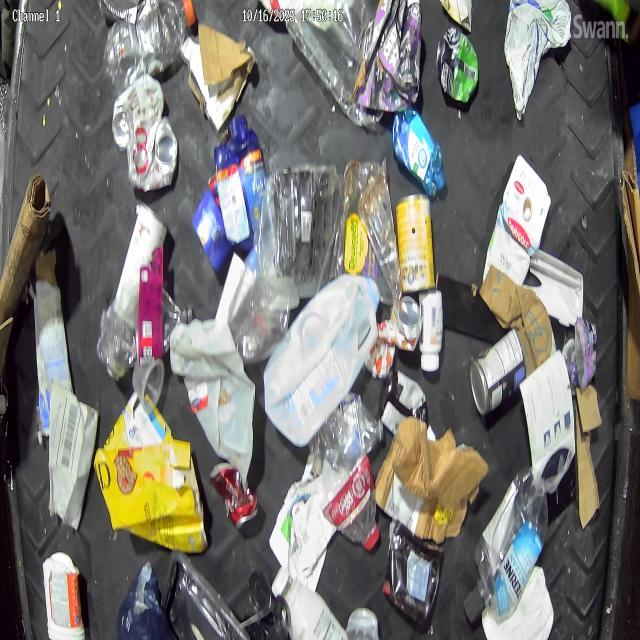can: (469, 331, 528, 419), (374, 300, 420, 374), (439, 21, 477, 101), (128, 120, 174, 186), (212, 460, 258, 524)
milk_jug: (266, 276, 382, 441), (174, 317, 253, 463)
non_white_jug: (212, 115, 265, 258)
plastic_bottle: (102, 0, 195, 80)
